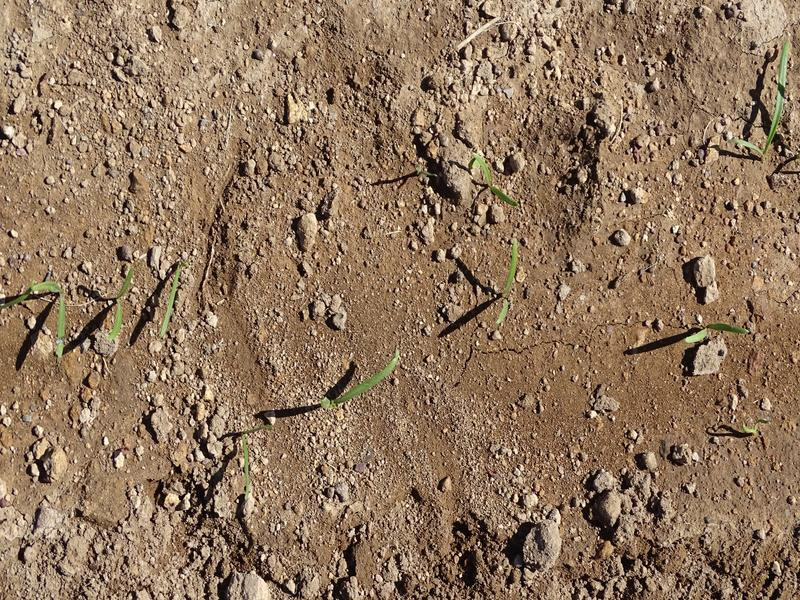Espinaca: (730, 37, 796, 159), (315, 352, 405, 415), (9, 273, 74, 352), (467, 151, 525, 208), (491, 239, 528, 328), (104, 258, 139, 340), (679, 318, 755, 353), (158, 261, 188, 337)
